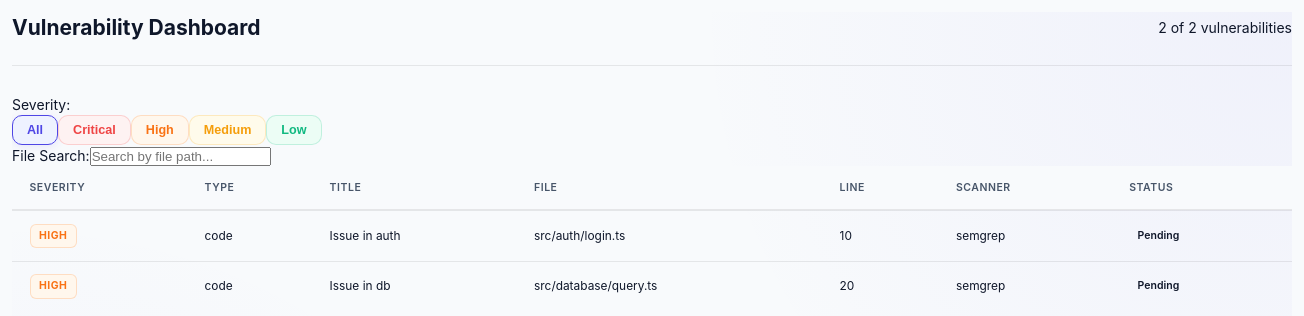
Test: VulnerabilityDashboard Component › Unit Tests › should filter vulnerabilities by file search
This screenshot has width=1304, height=316.
expect the text "Issue in auth" is shown: met, box [312,210,516,261]
// Type in file search
Type "auth" into the field named "Search vulnerabilities by file path" at (180, 156), box [90,146,271,166]
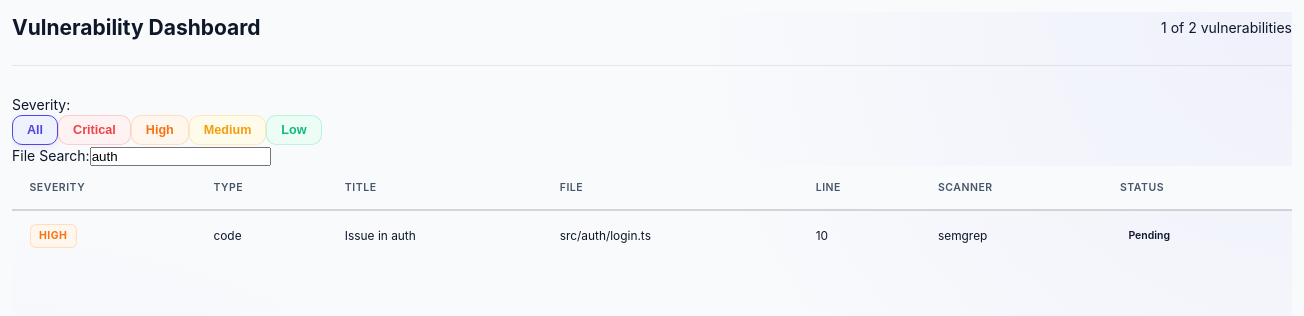
expect the text "Issue in auth" is shown: met, box [327,210,542,260]
expect the button "Issue in db" is gone: met
